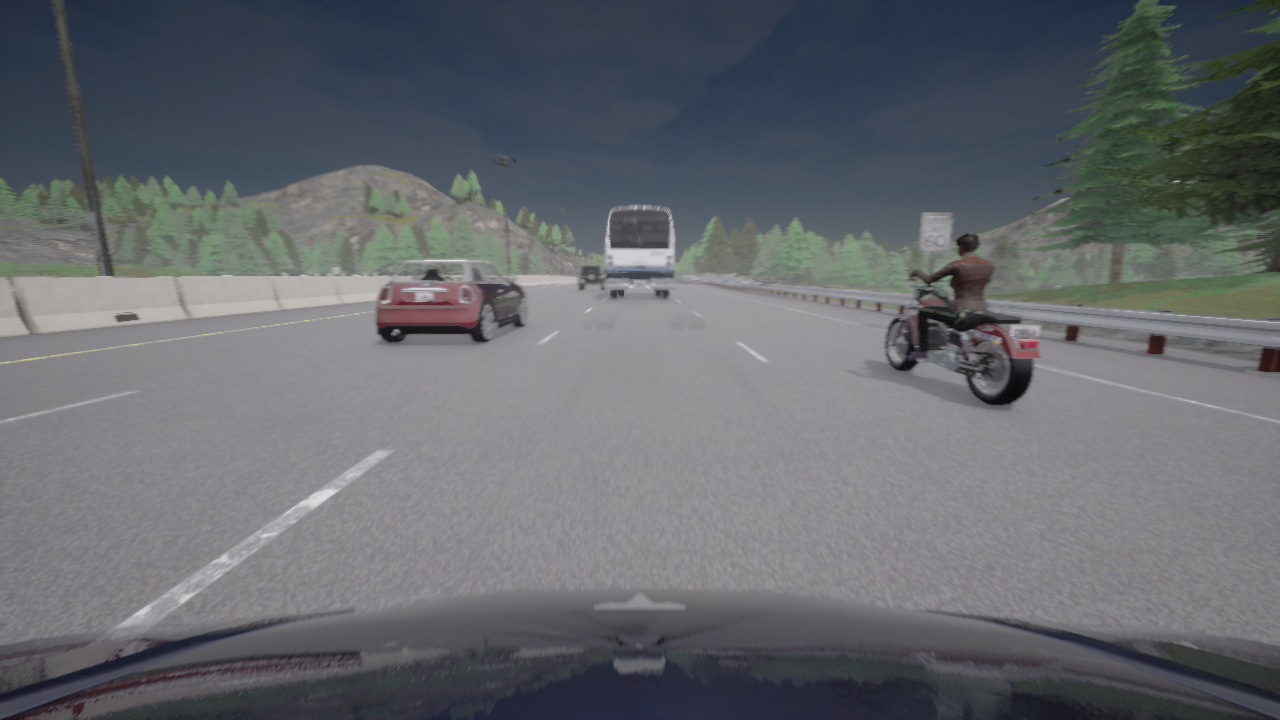cyclist: (0, 588, 1279, 719), (885, 267, 1040, 406), (375, 259, 527, 343), (605, 206, 674, 297), (578, 265, 606, 290)
